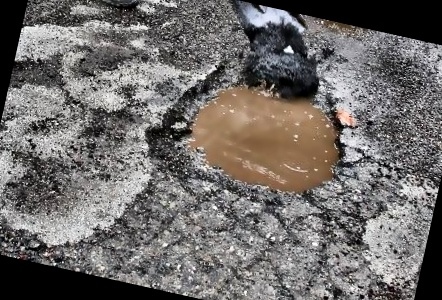pothole: (134, 35, 367, 226)
